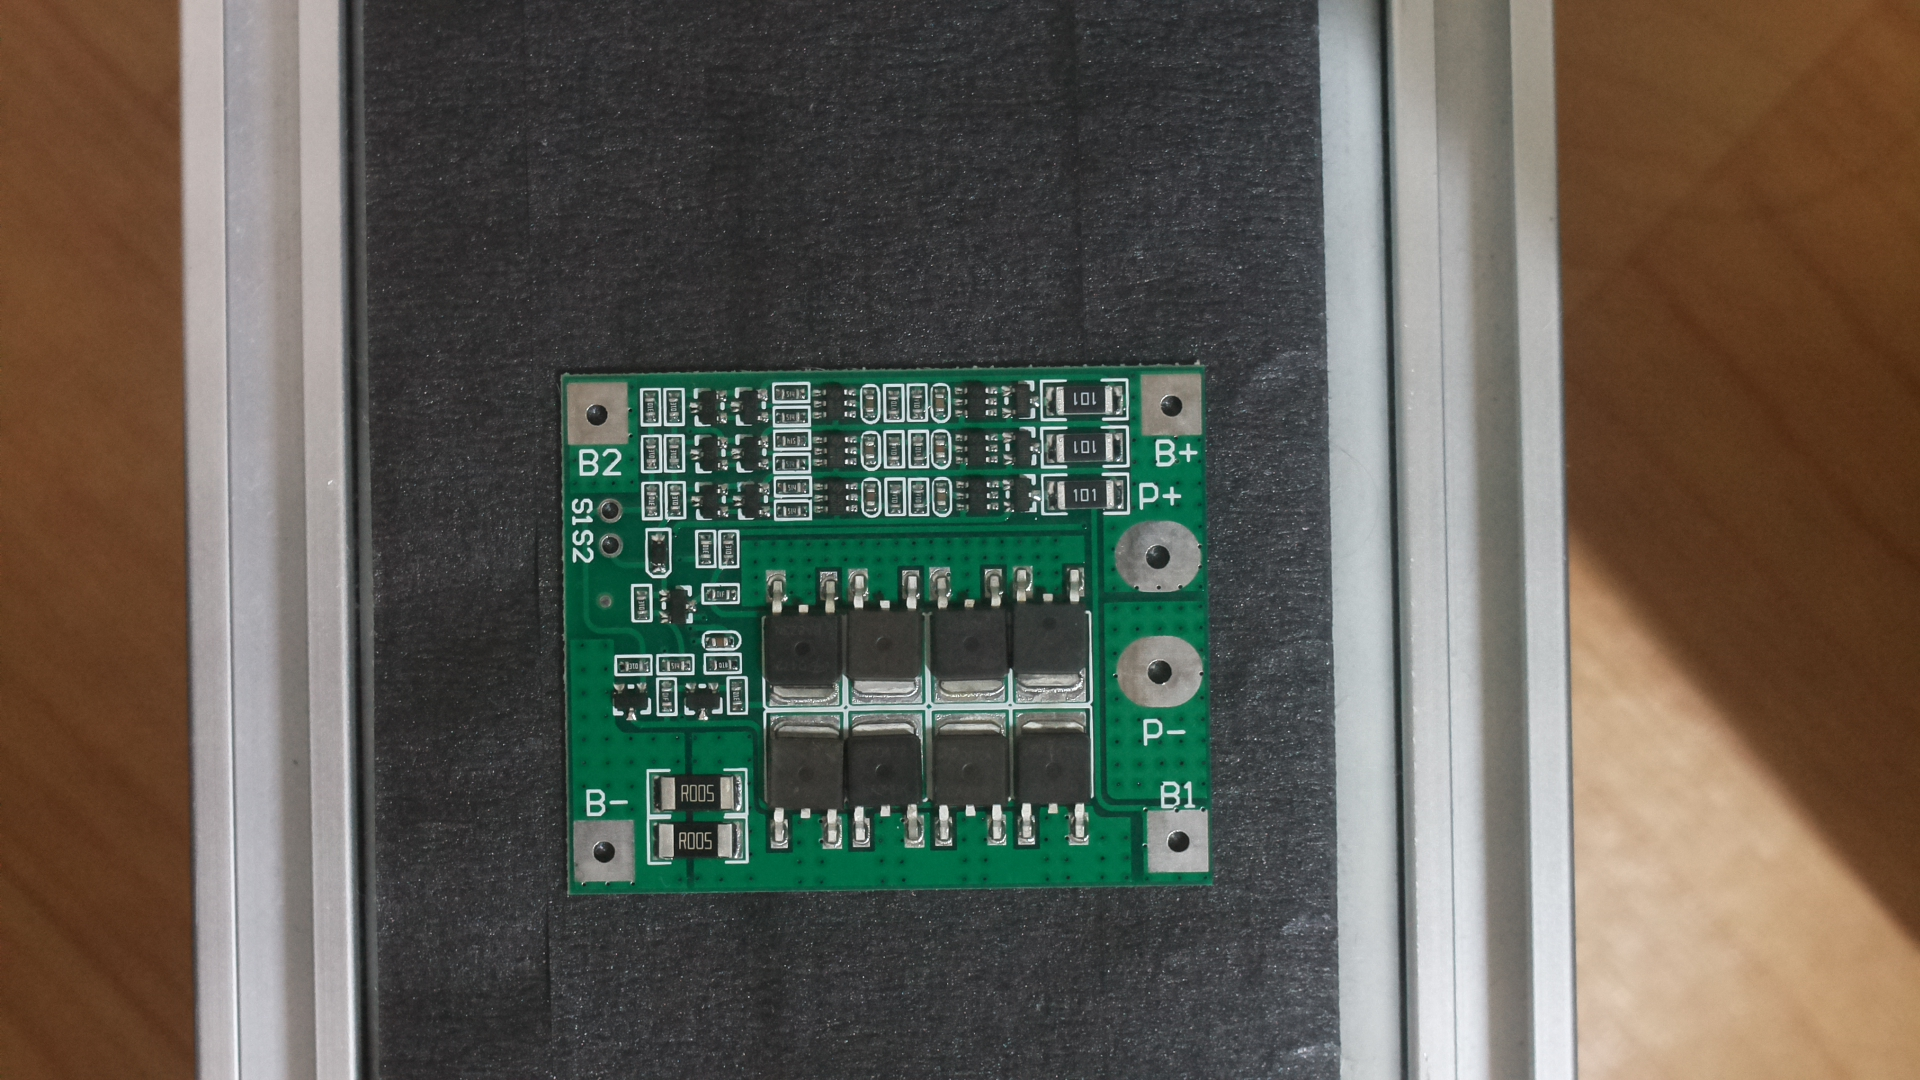C_Normal: (541, 357, 1225, 907)
